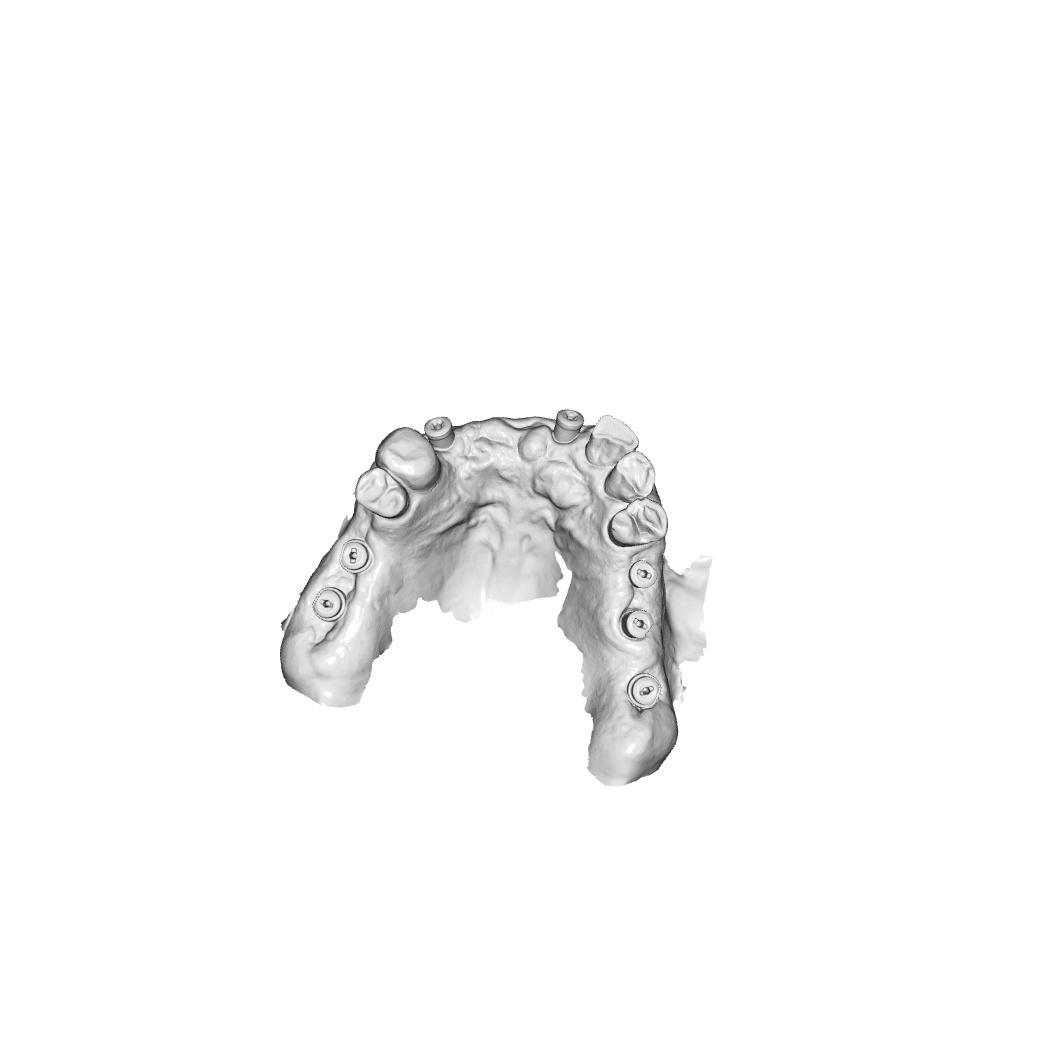canine: (604, 450, 656, 504)
implant: (550, 407, 586, 447), (423, 414, 457, 450)
implant_minus: (309, 583, 349, 624), (626, 672, 662, 710), (338, 538, 373, 576), (618, 608, 655, 641), (627, 559, 658, 590)
incisor: (584, 413, 640, 468)
premolar: (374, 424, 442, 493), (607, 497, 669, 548), (353, 465, 411, 519)
